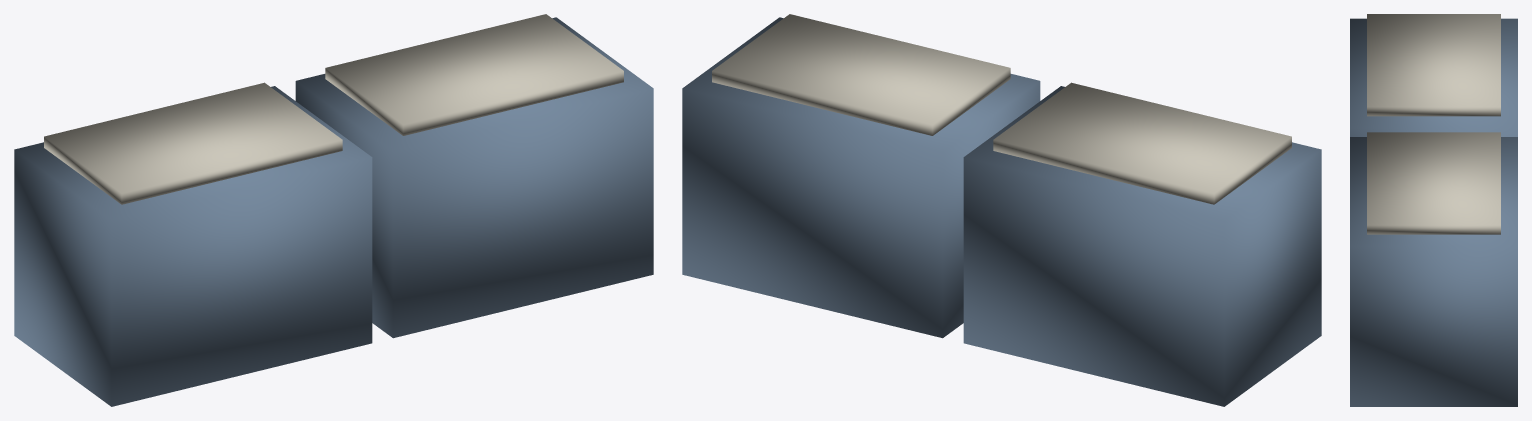
Rendered from lost_and_found_bin__cluster.glb.
3 views of the same model, side by side, from view 1: azimuth 30°, elevation 25°; view 2: azimuth 150°, elevation 25°; view 3: azimuth 270°, elevation 25° (orthographic). The views are drawn at different scales.
Visible parts, largest first — view 1: world; view 2: world; view 3: world.
Part boxes in pixels (box(x1,y1,x2,y2)): world: box(14, 14, 653, 406); world: box(682, 14, 1321, 406); world: box(1350, 14, 1517, 406).
Bounding box in the file's own units: 1.77 × 0.6275 × 0.55.
